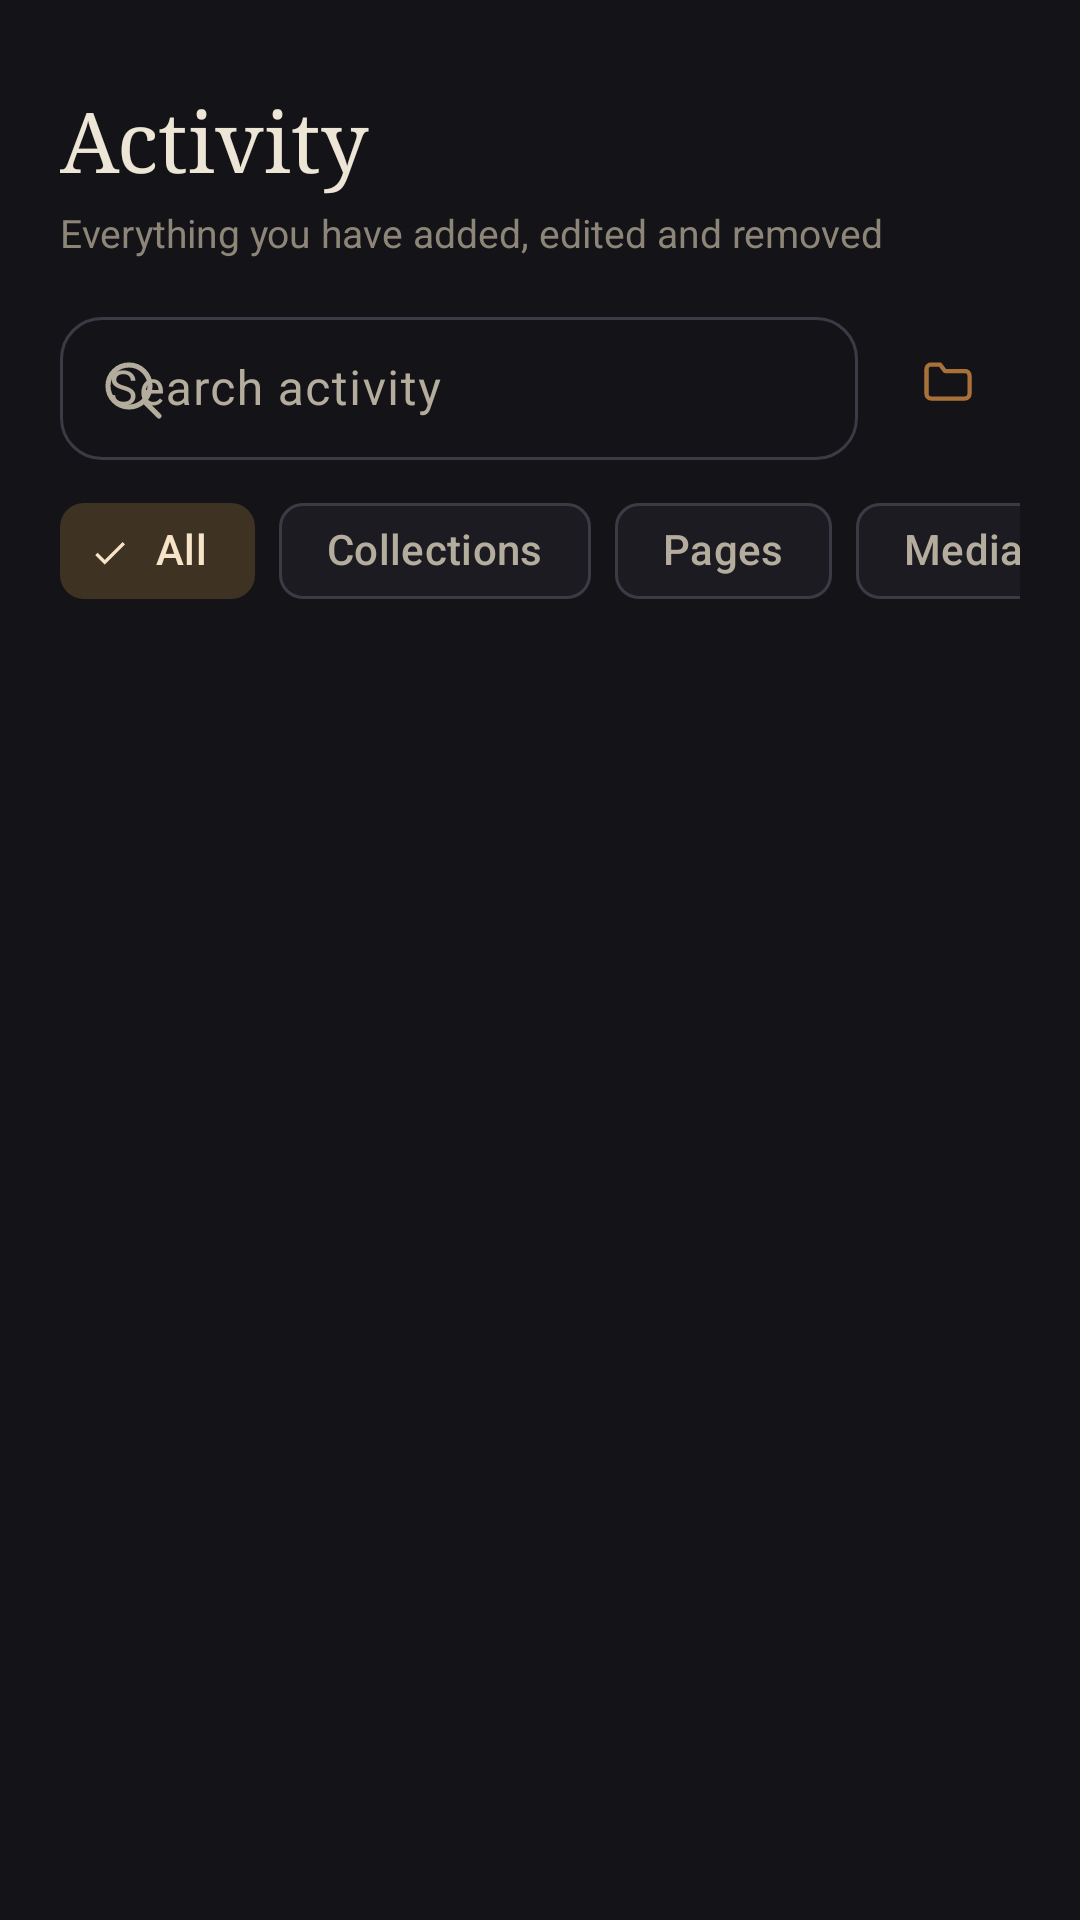

Icon click points for this 1080px x 1920px phone screenshot, format (x=x, y=y):
Filter by collection: (x=948, y=381)
